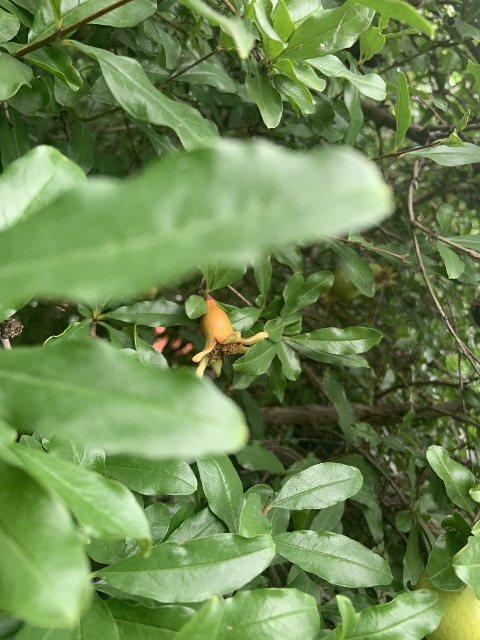early-fruit: (188, 293, 269, 380)
mid-growth: (410, 550, 480, 640)
